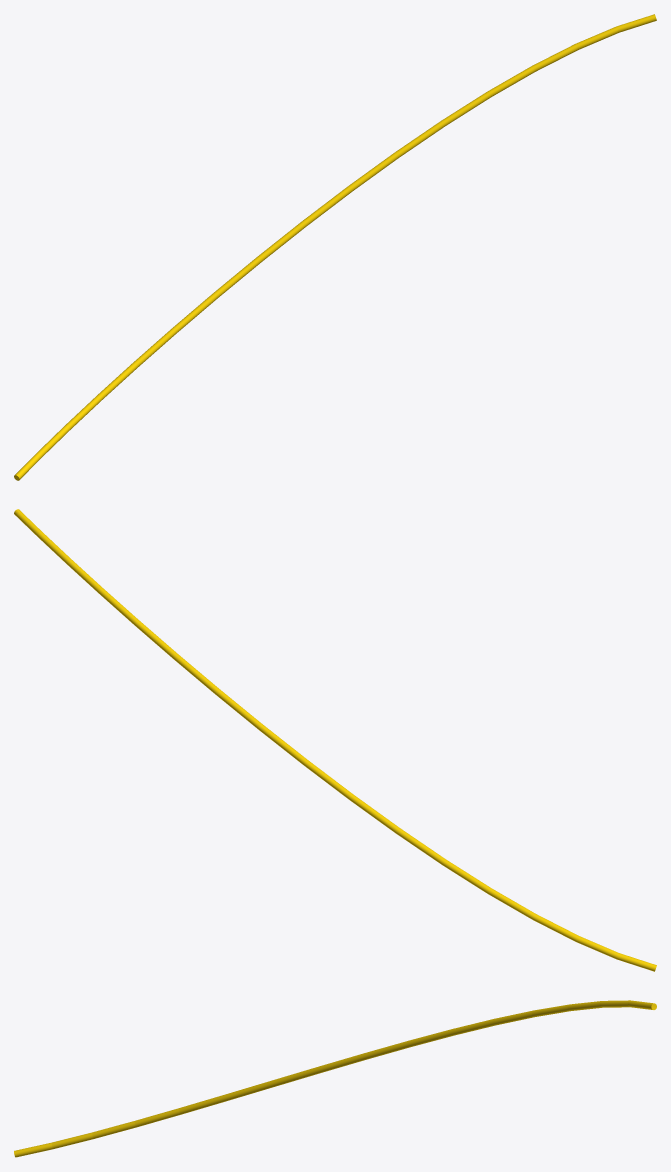
File: Event_420094457_track_65.fbx
3 renders of one model, top to bottom at view 1: azimuth 30°, elevation 25°; view 2: azimuth 150°, elevation 25°; view 3: azimuth 330°, elevation 25°, orthographic.
Parts seen in each view (by area): view 1: Model; view 2: Model; view 3: Model.
Boxes of the visible parts, x1,y1,x2,y2 form: Model: [14, 14, 656, 480]; Model: [14, 509, 656, 971]; Model: [14, 1000, 656, 1157].
Bounding box in the file's own units: 4.29 × 1.97 × 0.4108.
